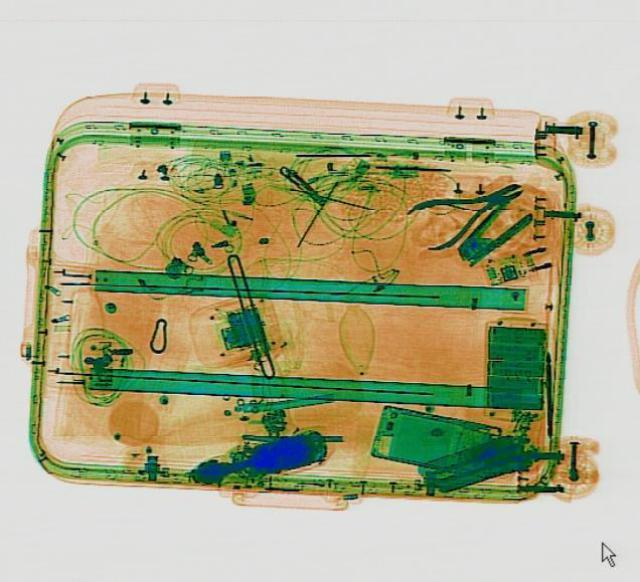Pliers: (400, 164, 534, 253)
